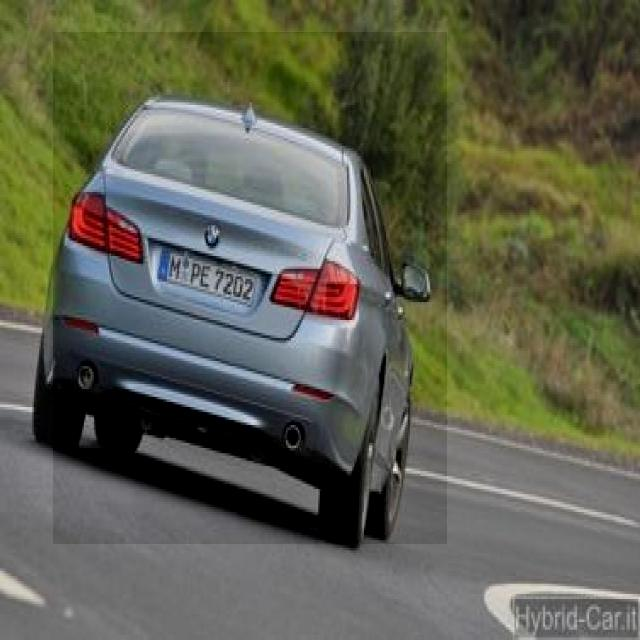Car: (54, 32, 448, 544)
